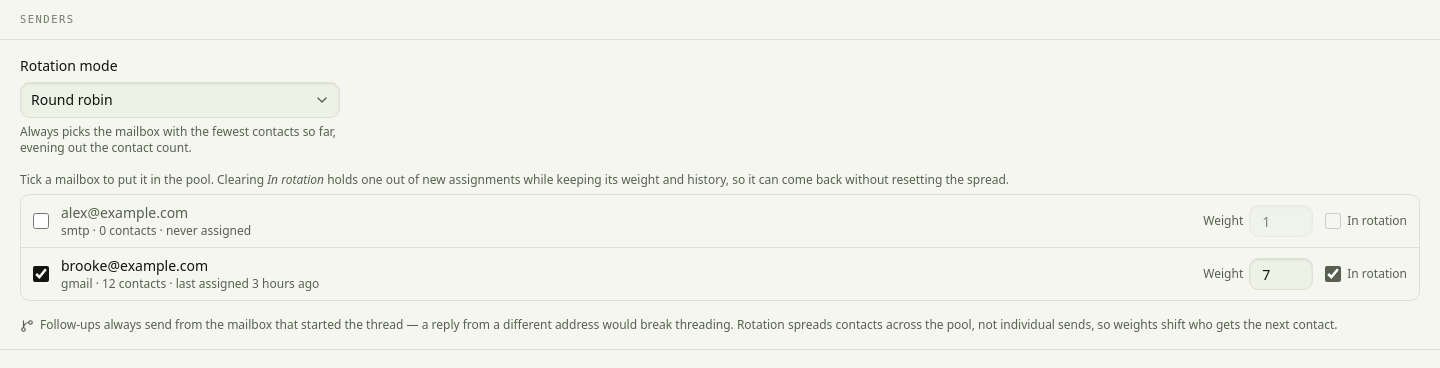
Test case: SendersPanel › the save action only appears once something is edited
expect the dropdown labelled "Rotation mode" is shown: met, box [20,82,340,118]
expect the button "save senders" is not shown: met
Click the checkbox named "Include alex@example.com in the pool".
click(41, 221)  # box [33,213,49,229]
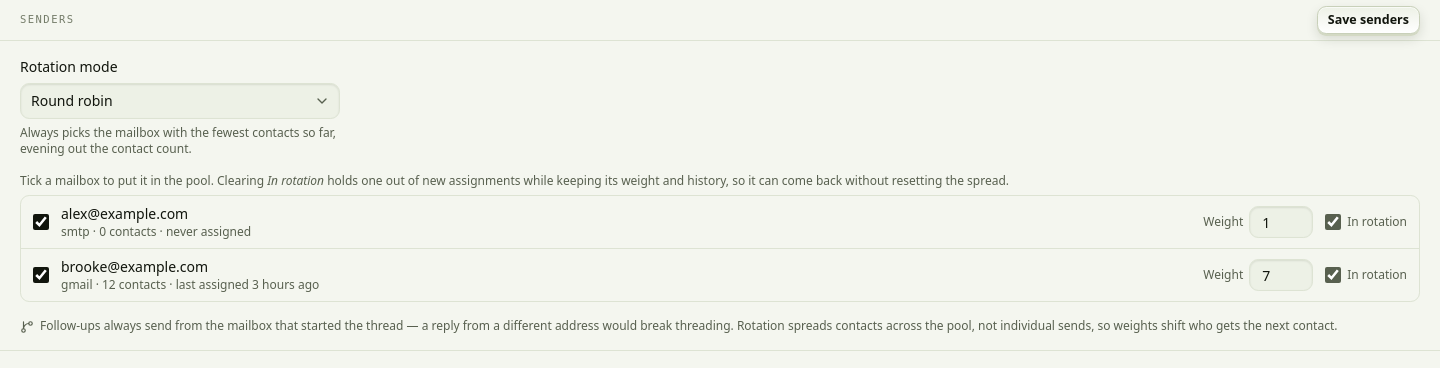
expect the button "Save senders" is shown: met, box [1317,6,1420,34]
